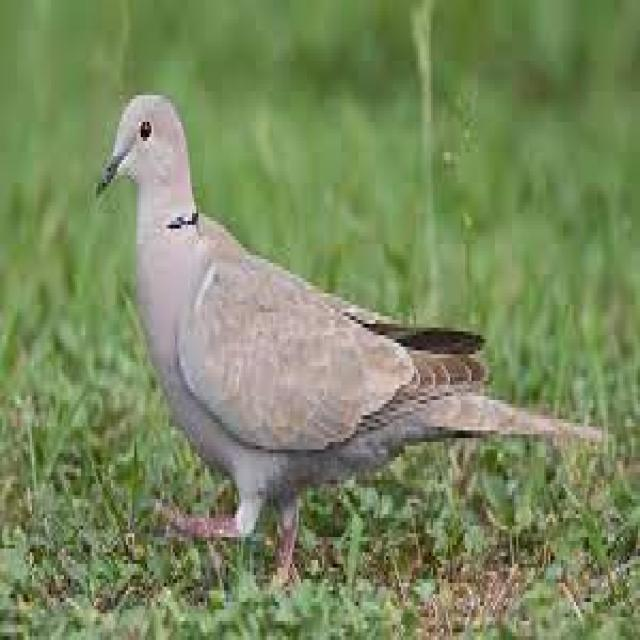bird: (94, 83, 612, 593)
